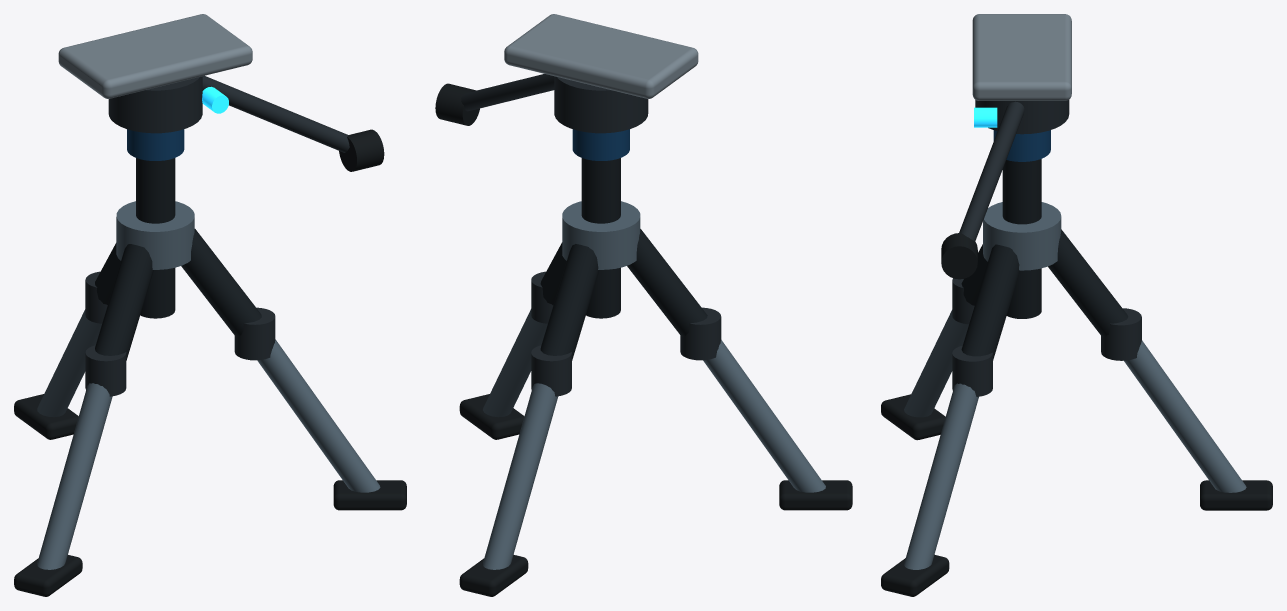
Rendered from camera-tripod.glb.
The picture shows the model from 3 angles, left to right: view 1: azimuth 30°, elevation 25°; view 2: azimuth 150°, elevation 25°; view 3: azimuth 270°, elevation 25°; orthographic projection.
Parts seen in each view (by area): view 1: Professional carbon camera tripod, Quick-release plate, Rubber foot (×3), Fluid head, Leg lock (×3), Centre column, Tripod spider, Levelling bowl, Pan handle grip, Bubble level; view 2: Professional carbon camera tripod, Quick-release plate, Rubber foot (×3), Fluid head, Centre column, Leg lock (×3), Tripod spider, Levelling bowl, Pan handle grip; view 3: Professional carbon camera tripod, Quick-release plate, Rubber foot (×3), Centre column, Leg lock (×3), Tripod spider, Fluid head, Pan handle grip, Levelling bowl.
Part boxes in pixels (<box>): Professional carbon camera tripod: <box>37,75,380,569</box>; Quick-release plate: <box>58,14,252,98</box>; Rubber foot (×3): <box>14,394,406,596</box>; Fluid head: <box>108,76,202,133</box>; Leg lock (×3): <box>85,271,275,396</box>; Centre column: <box>136,158,175,318</box>; Tripod spider: <box>116,201,194,269</box>; Levelling bowl: <box>127,129,184,160</box>; Pan handle grip: <box>339,129,384,171</box>; Bubble level: <box>202,86,228,113</box>; Professional carbon camera tripod: <box>461,74,825,569</box>; Quick-release plate: <box>504,14,698,98</box>; Rubber foot (×3): <box>459,394,852,596</box>; Fluid head: <box>554,76,648,133</box>; Centre column: <box>581,158,620,318</box>; Leg lock (×3): <box>531,271,721,396</box>; Tripod spider: <box>562,201,640,269</box>; Levelling bowl: <box>572,129,629,160</box>; Pan handle grip: <box>435,83,479,125</box>; Professional carbon camera tripod: <box>904,101,1246,569</box>; Quick-release plate: <box>972,14,1071,100</box>; Rubber foot (×3): <box>881,394,1272,596</box>; Centre column: <box>1002,159,1041,318</box>; Leg lock (×3): <box>952,278,1141,396</box>; Tripod spider: <box>983,202,1061,270</box>; Fluid head: <box>975,100,1069,134</box>; Pan handle grip: <box>941,233,977,279</box>; Levelling bowl: <box>993,130,1050,161</box>.
Size of the model in its own units: 1.73 by 1.92 by 1.5.
